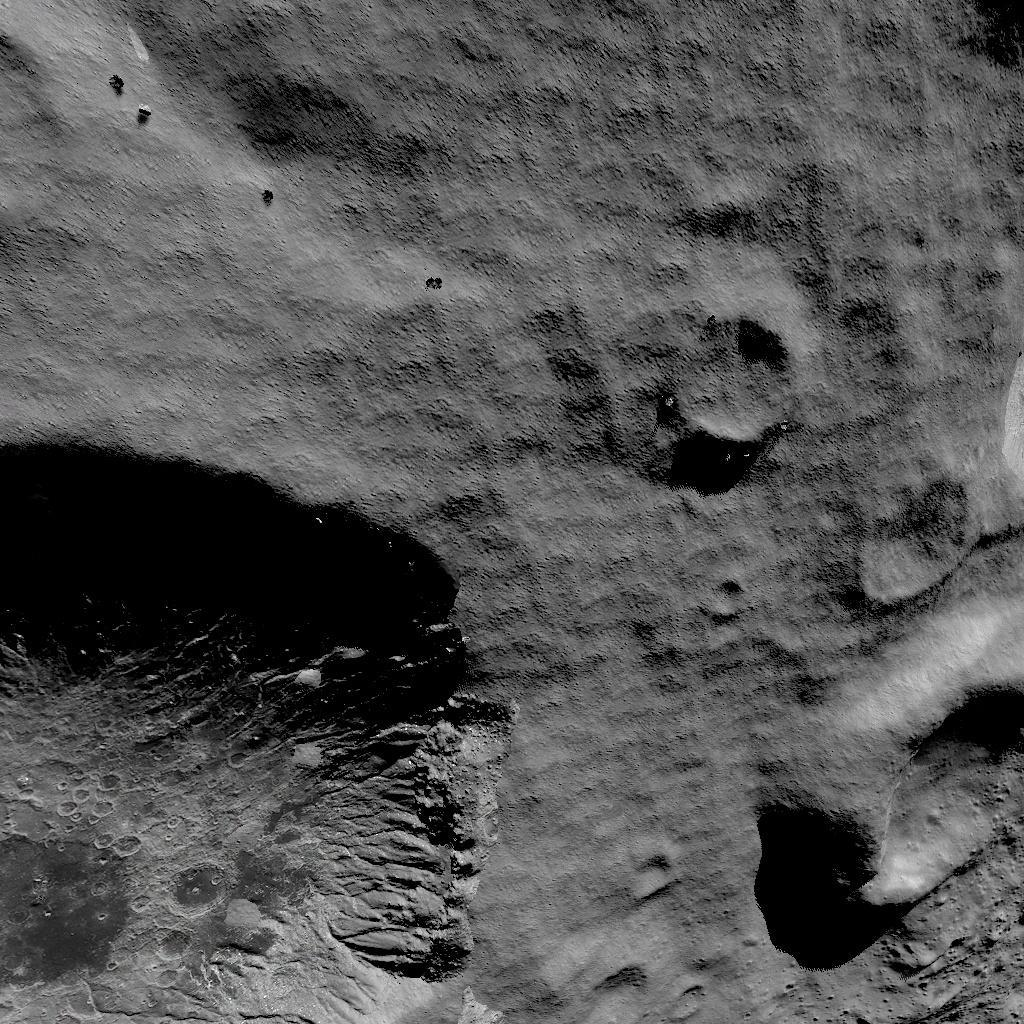Crater: (0, 386, 503, 1024), (731, 646, 1024, 967), (646, 284, 807, 448), (835, 448, 975, 593)
Plan surface: (449, 0, 1022, 255), (0, 208, 410, 377)
